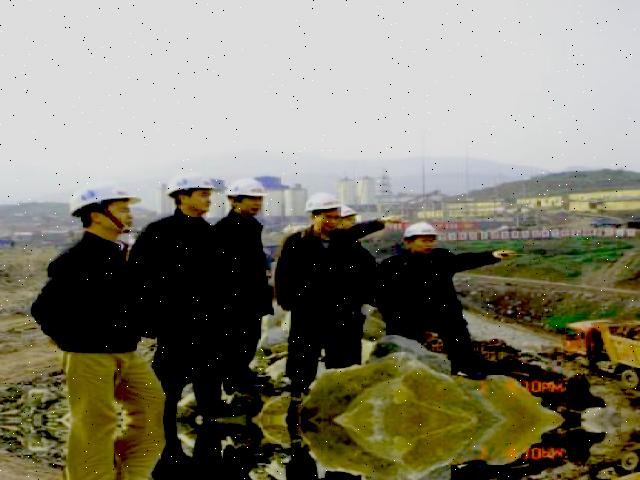Helmet: (60, 177, 144, 219), (159, 169, 218, 199), (219, 174, 267, 204), (300, 188, 344, 216), (398, 218, 440, 243)
